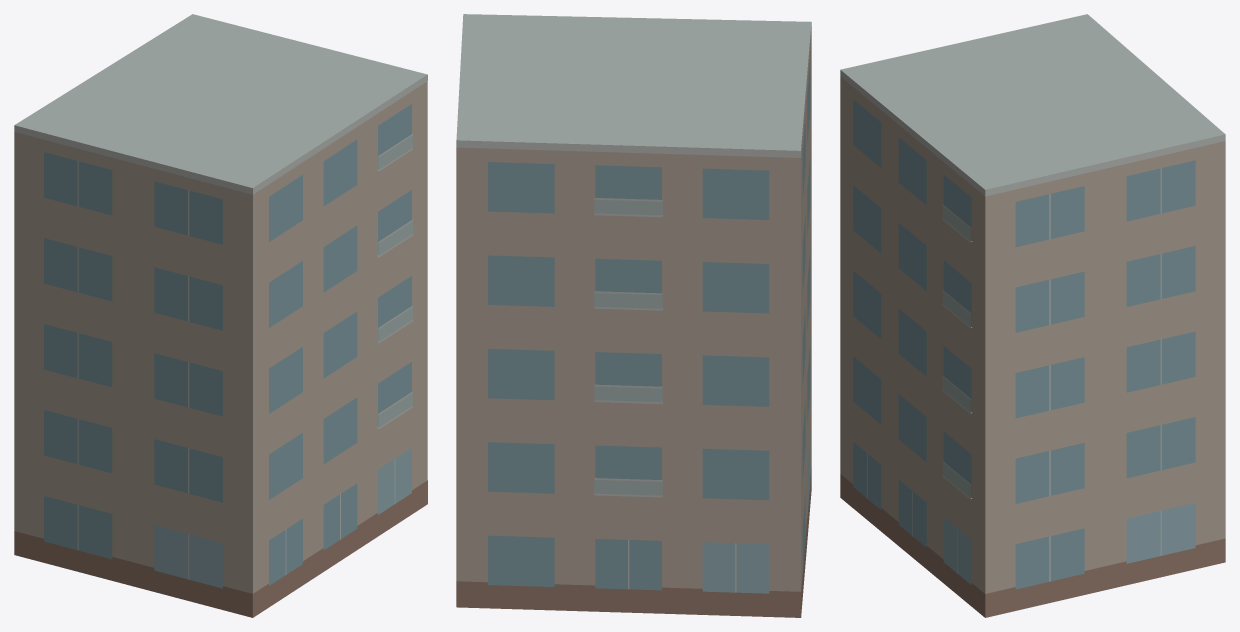
Rendered from survey-upis-32861421.glb.
3 renders of one model, left to right at view 1: azimuth 30°, elevation 25°; view 2: azimuth 150°, elevation 25°; view 3: azimuth 270°, elevation 25°, orthographic. The views are drawn at different scales.
Visible parts, largest first — view 1: survey-upis-32861421.tmp; view 2: survey-upis-32861421.tmp; view 3: survey-upis-32861421.tmp.
Boxes of the visible parts, x1,y1,x2,y2 form: survey-upis-32861421.tmp: (14,14,427,617); survey-upis-32861421.tmp: (456,14,811,617); survey-upis-32861421.tmp: (840,14,1225,617).
Size of the model in its own units: 14.03 by 15.9 by 12.99.
